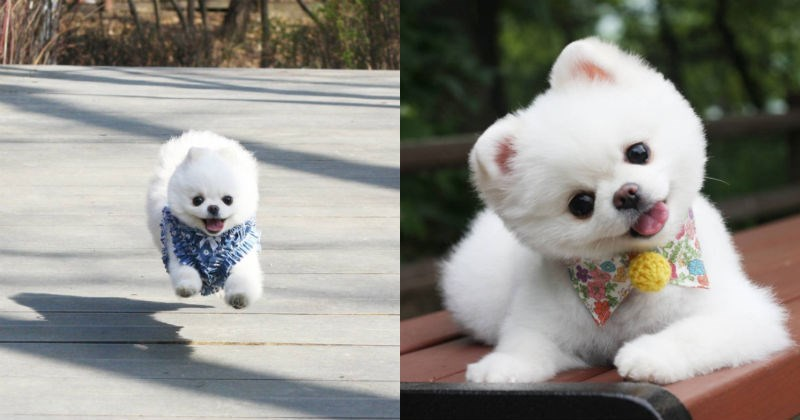pomeranian: (441, 17, 784, 403), (123, 114, 292, 322)
